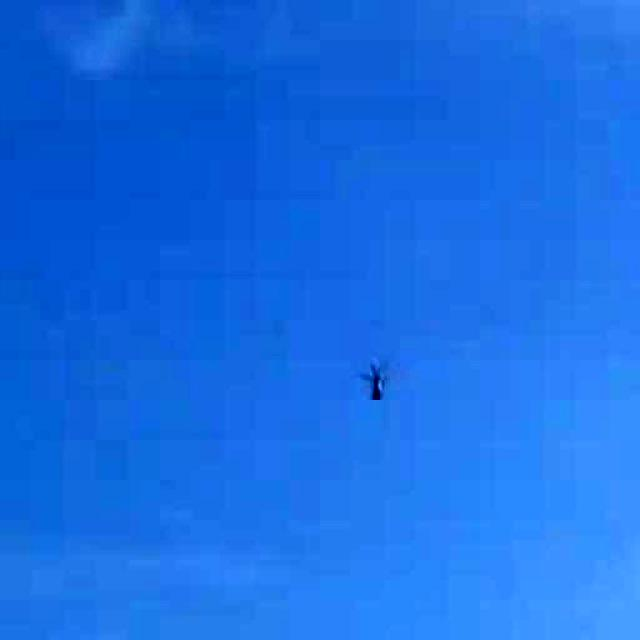drone: (336, 339, 416, 422)
